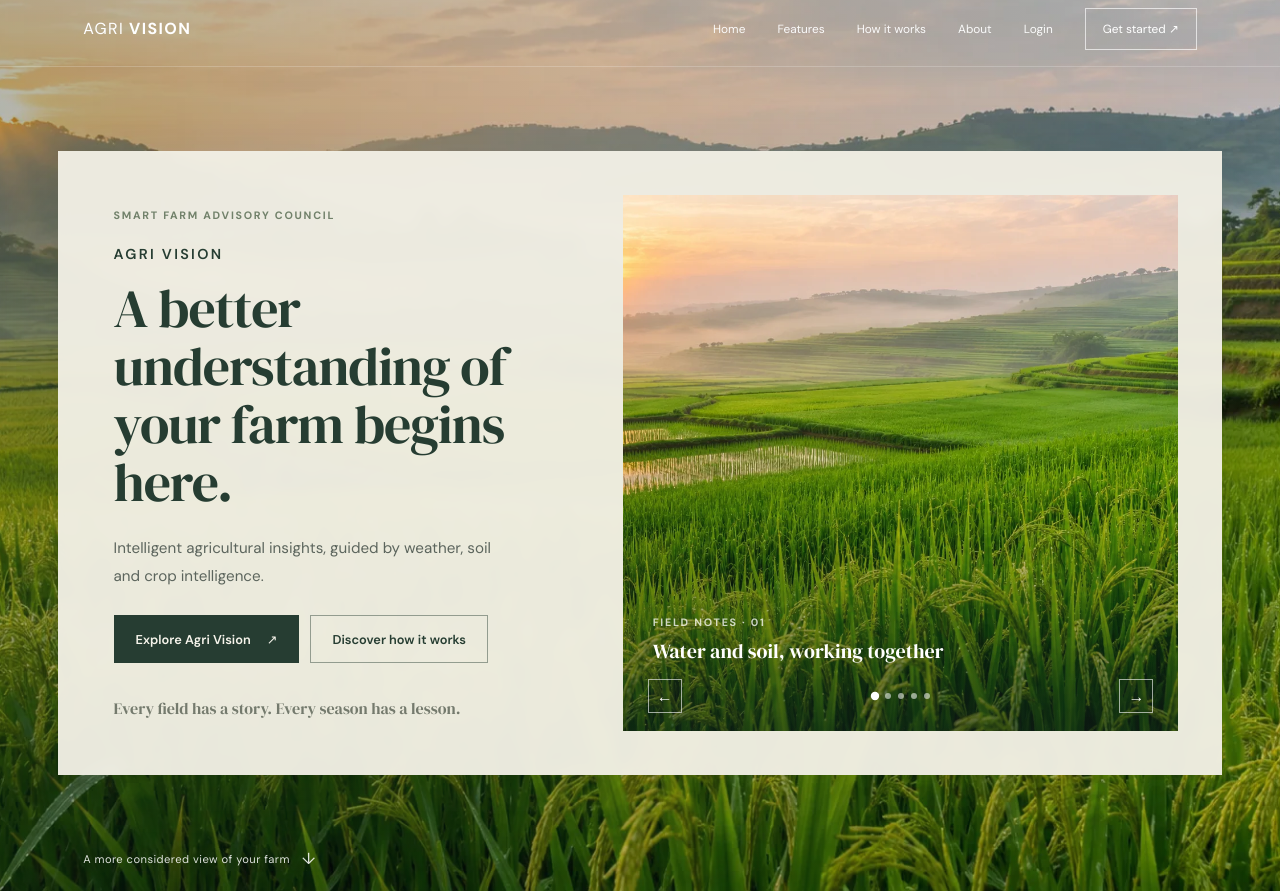
landing navigation › sends public exploration to the sample demo and account actions to auth pages
The width and height of the screenshot is (1280, 891).
Click the link "Explore Agri Vision ↗": (206, 639) [114,615,299,663]
(page scrolled)
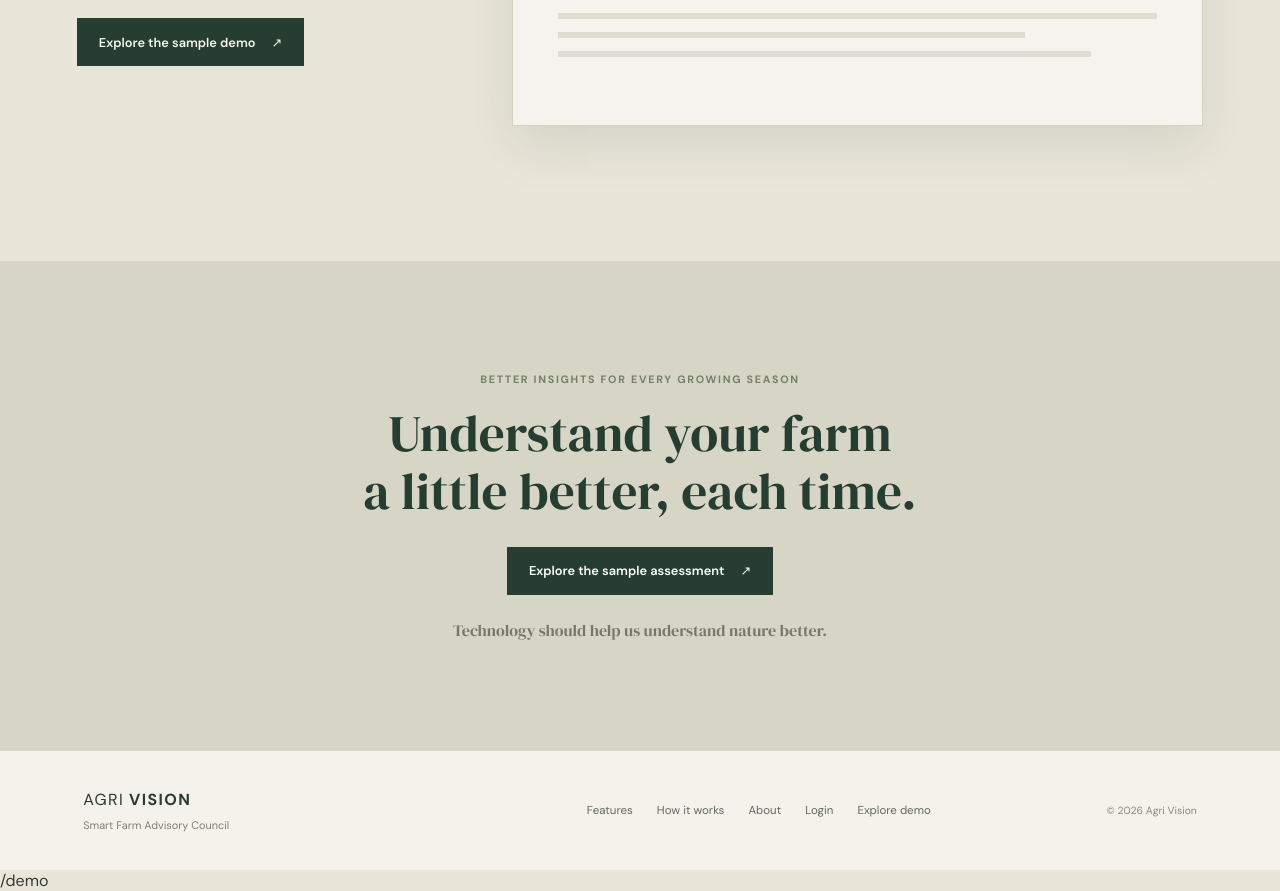
Check: the text with test id "path" reads "/demo", box [0,870,48,890]
Click the link "Explore the sample assessment ↗": (640, 571) [507,547,773,595]
(page scrolled)
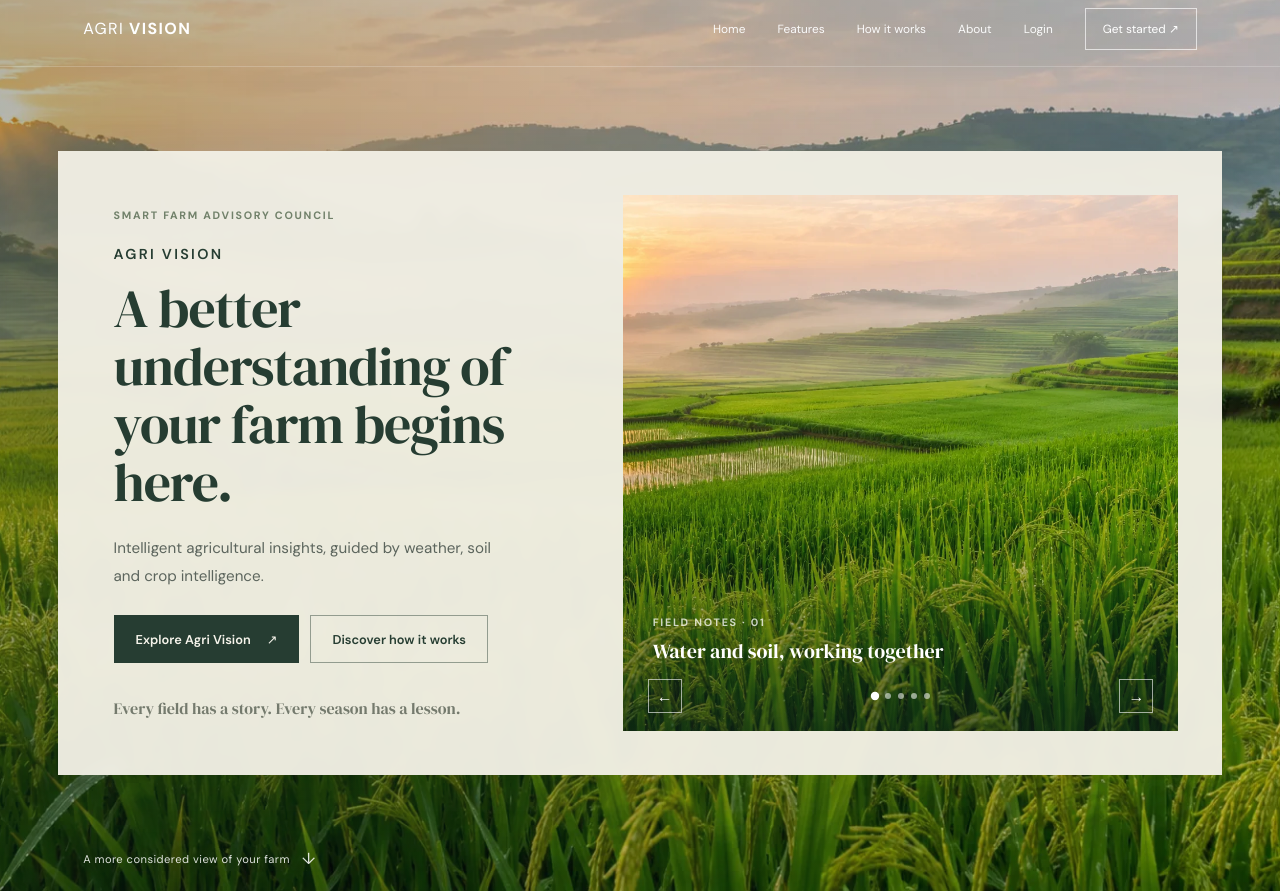
Click the link "Get started ↗": (1141, 28) [1085,8,1197,50]
(page scrolled)
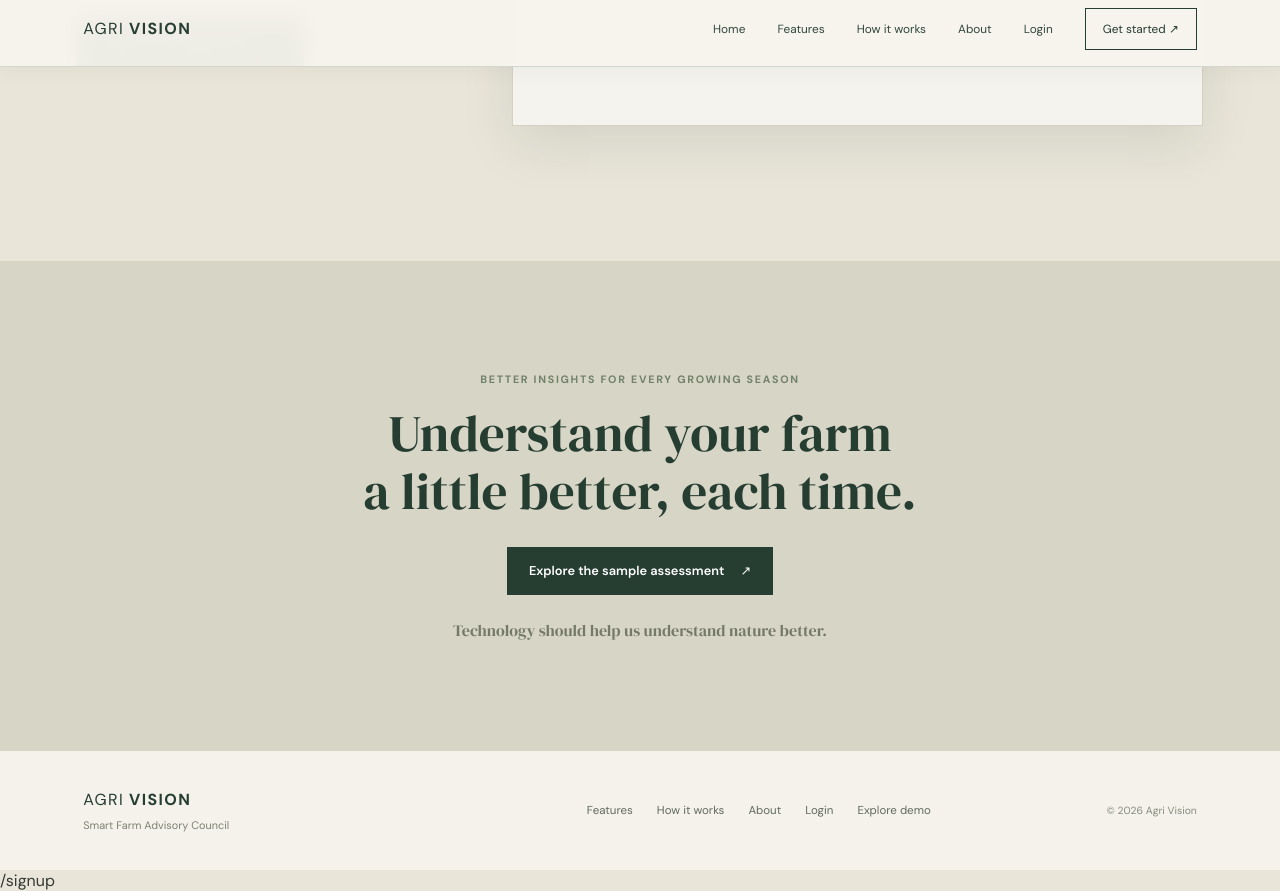
Check: the text with test id "path" reads "/signup", box [0,870,55,890]
